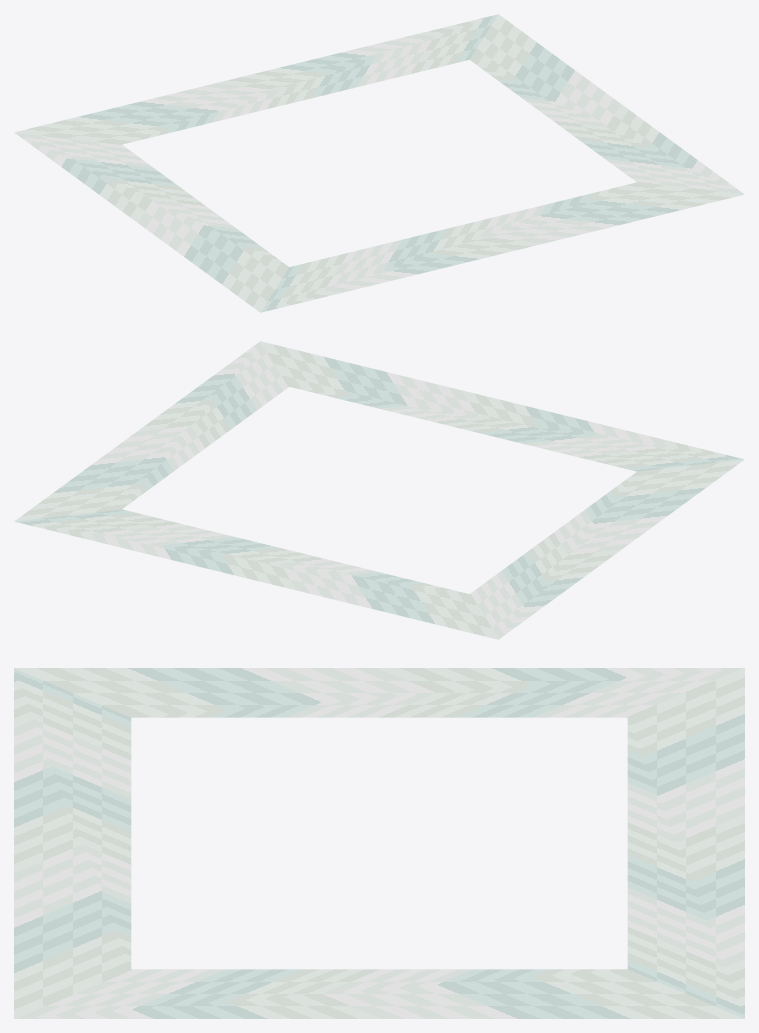
The model's file is island-foam.glb.
3 views of the same model, one above another, from view 1: azimuth 30°, elevation 25°; view 2: azimuth 150°, elevation 25°; view 3: azimuth 270°, elevation 25° (orthographic). The views are drawn at different scales.
Visible parts, largest first — view 1: island; view 2: island; view 3: island.
Part boxes in pixels (box(x1,y1,x2,y2)): island: box(14, 14, 744, 312); island: box(14, 341, 744, 639); island: box(14, 668, 744, 1018).
Bounding box in the file's own units: 33.6 × 0 × 29.6.
1 material, 1 textured.
